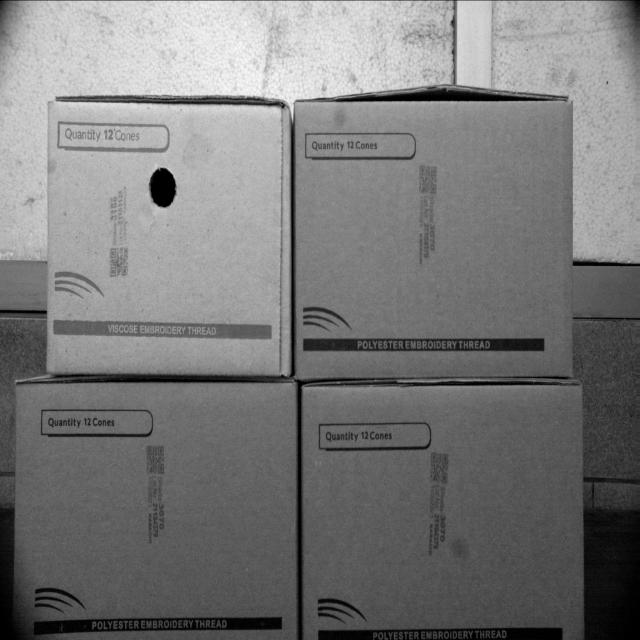cardboxes: (298, 103, 574, 376), (13, 383, 297, 639), (301, 386, 586, 639), (48, 102, 288, 370)
